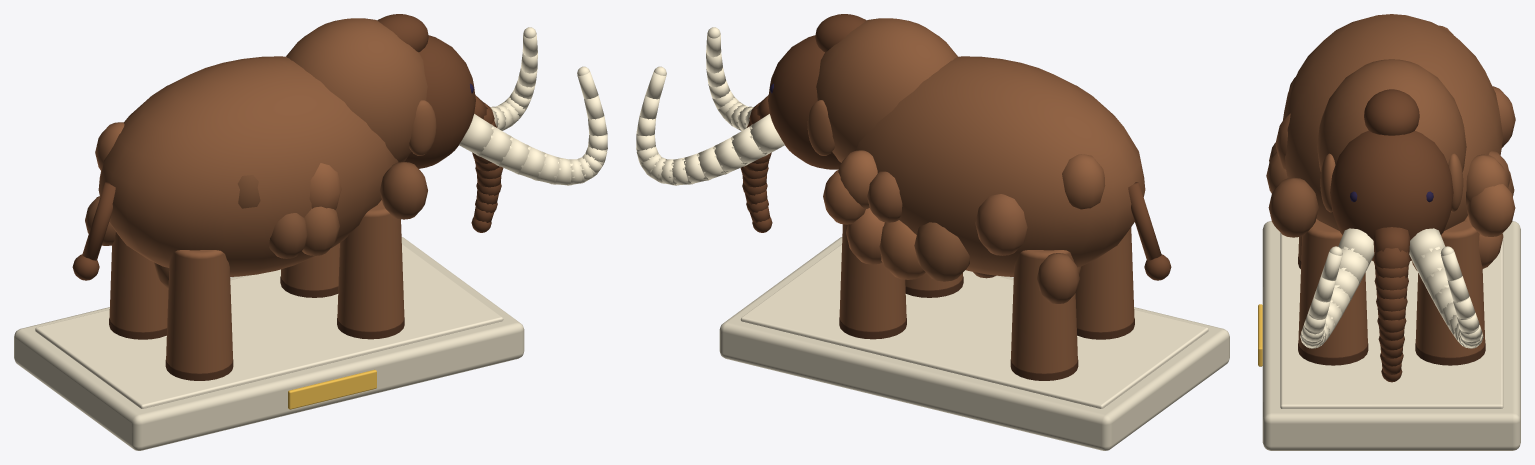
File: mammoth.glb
The picture shows the model from 3 angles, left to right: view 1: azimuth 30°, elevation 25°; view 2: azimuth 150°, elevation 25°; view 3: azimuth 270°, elevation 25°; orthographic projection. The views are drawn at different scales.
Visible parts, largest first — view 1: mammoth; view 2: mammoth; view 3: mammoth.
Boxes of the visible parts, x1,y1,x2,y2 form: mammoth: (14,14,607,450); mammoth: (636,14,1229,450); mammoth: (1258,14,1520,450).
Bounding box in the file's own units: 5.08 × 3.1 × 2.24.
